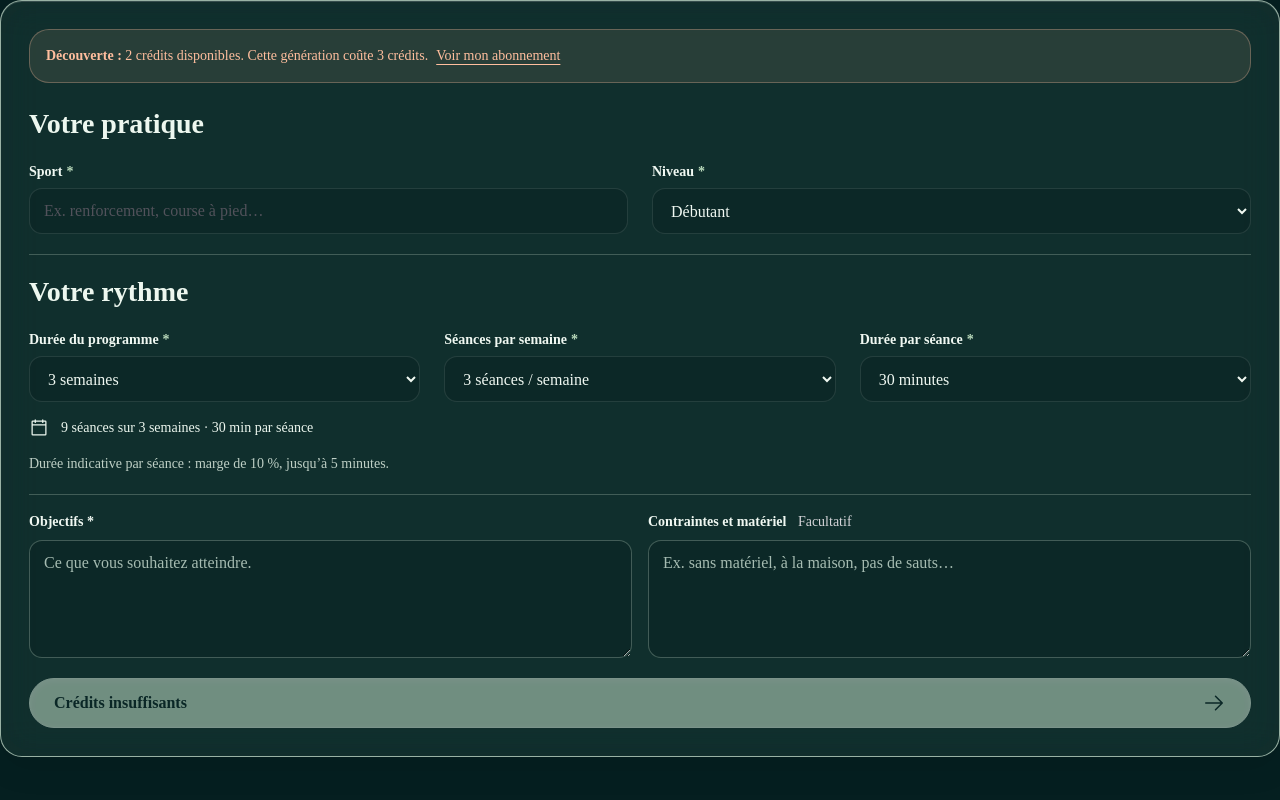
offres et crédits › bloque un programme lorsque les semaines dépassent le solde même non nul
This screenshot has width=1280, height=800.
Expected: the button "Crédits insuffisants" is disabled, x1=29 y1=678 x2=1251 y2=728
Select "2 semaines" in the dropdown named "weeks_count". click: coordinates (225, 379)
box: x1=29 y1=356 x2=420 y2=402
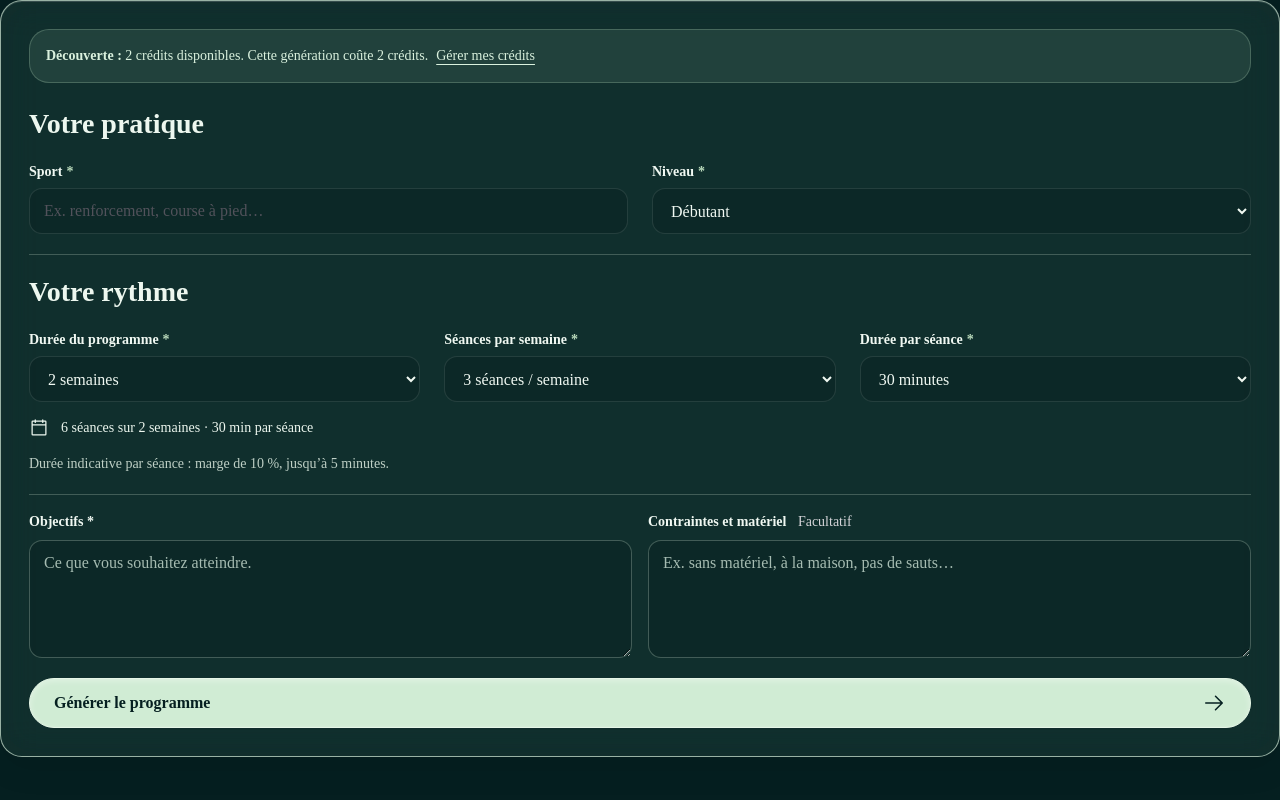
Now the button "Générer le programme" is enabled, box x1=29 y1=678 x2=1251 y2=728
